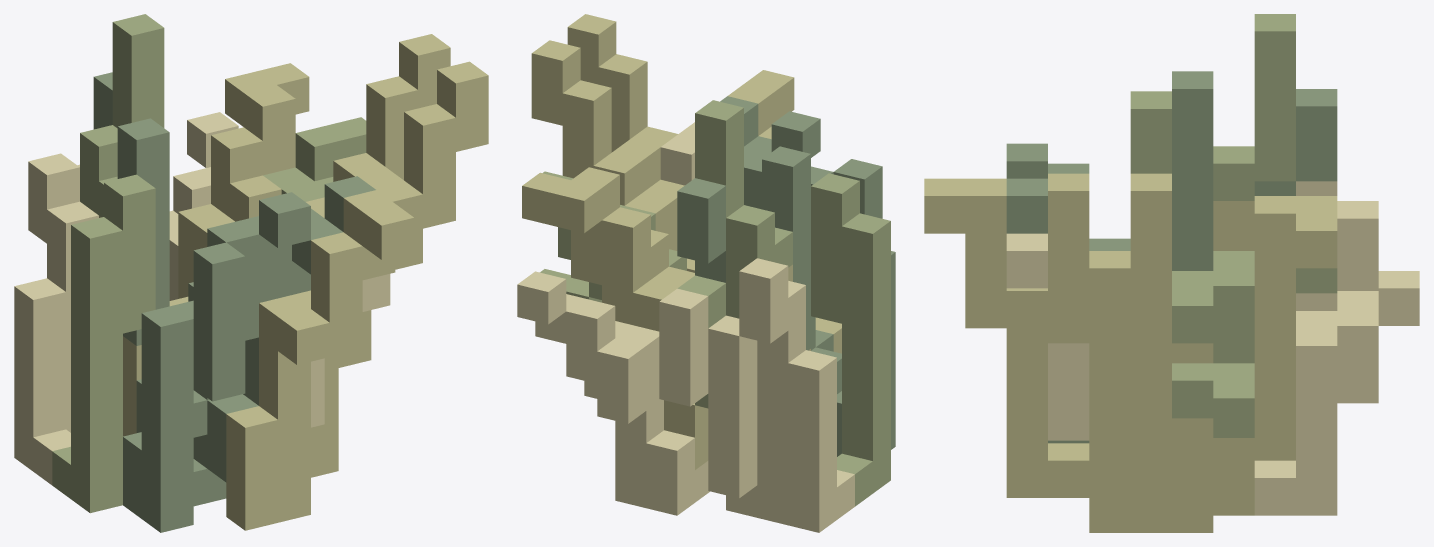
File: dune_grass_tuft.glb
3 views of the same model, side by side, from view 1: azimuth 30°, elevation 25°; view 2: azimuth 150°, elevation 25°; view 3: azimuth 270°, elevation 25° (orthographic). The views are drawn at different scales.
Bounding box in the file's own units: 0.6875 × 0.75 × 0.75.
